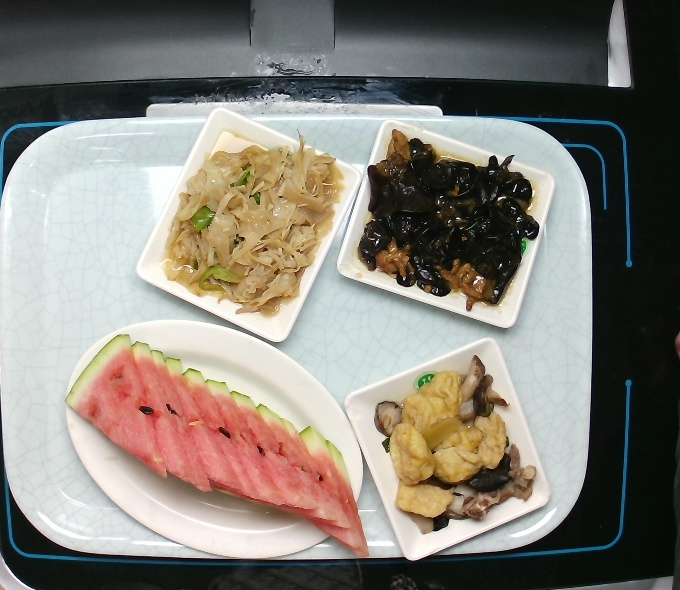wcq-LuSun: (162, 136, 341, 318)
wcq-MuErChaoRou: (373, 146, 527, 303)
wcq-XiGua: (52, 330, 376, 564)
wcq-YouPaoPaiGu: (374, 349, 540, 538)
